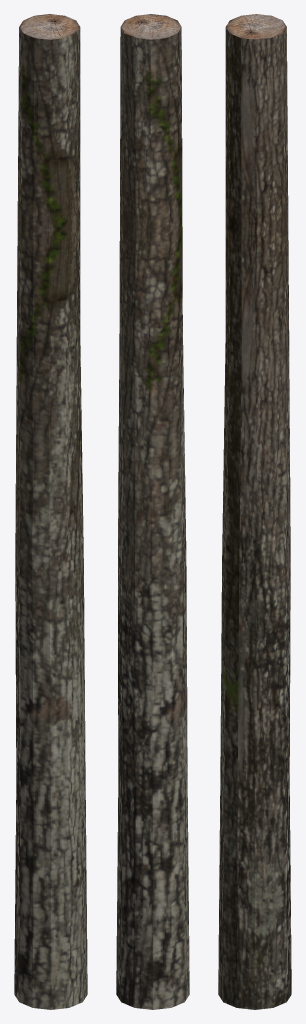
File: puunrunko2.fbx
3 renders of one model, left to right at view 1: azimuth 90°, elevation 25°; view 2: azimuth 150°, elevation 25°; view 3: azimuth 270°, elevation 25°, orthographic.
Parts seen in each view (by area): view 1: puunrunko1; view 2: puunrunko1; view 3: puunrunko1.
Part boxes in pixels (box(x1,y1,x2,y2)): puunrunko1: box(14, 14, 87, 1009); puunrunko1: box(116, 14, 189, 1009); puunrunko1: box(218, 14, 291, 1009).
Bounding box in the file's own units: 206 × 3000 × 206.
